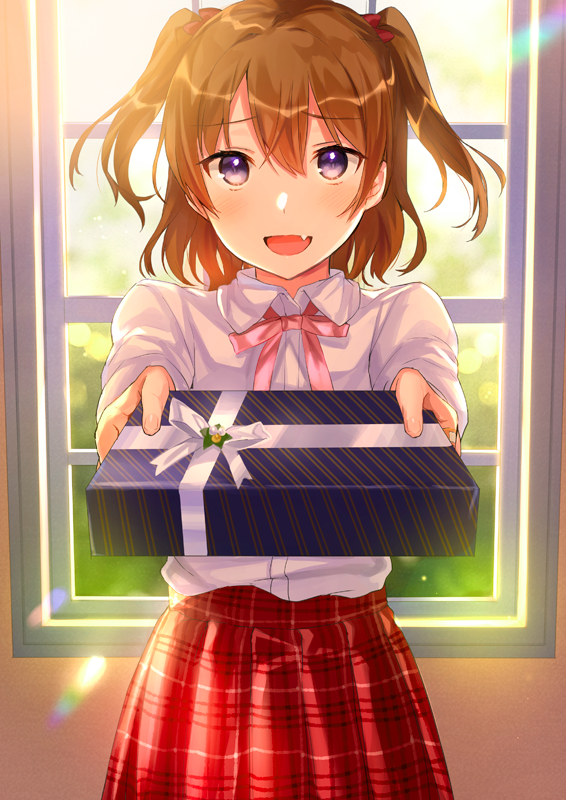纸片人正脸: (141, 7, 418, 288)
